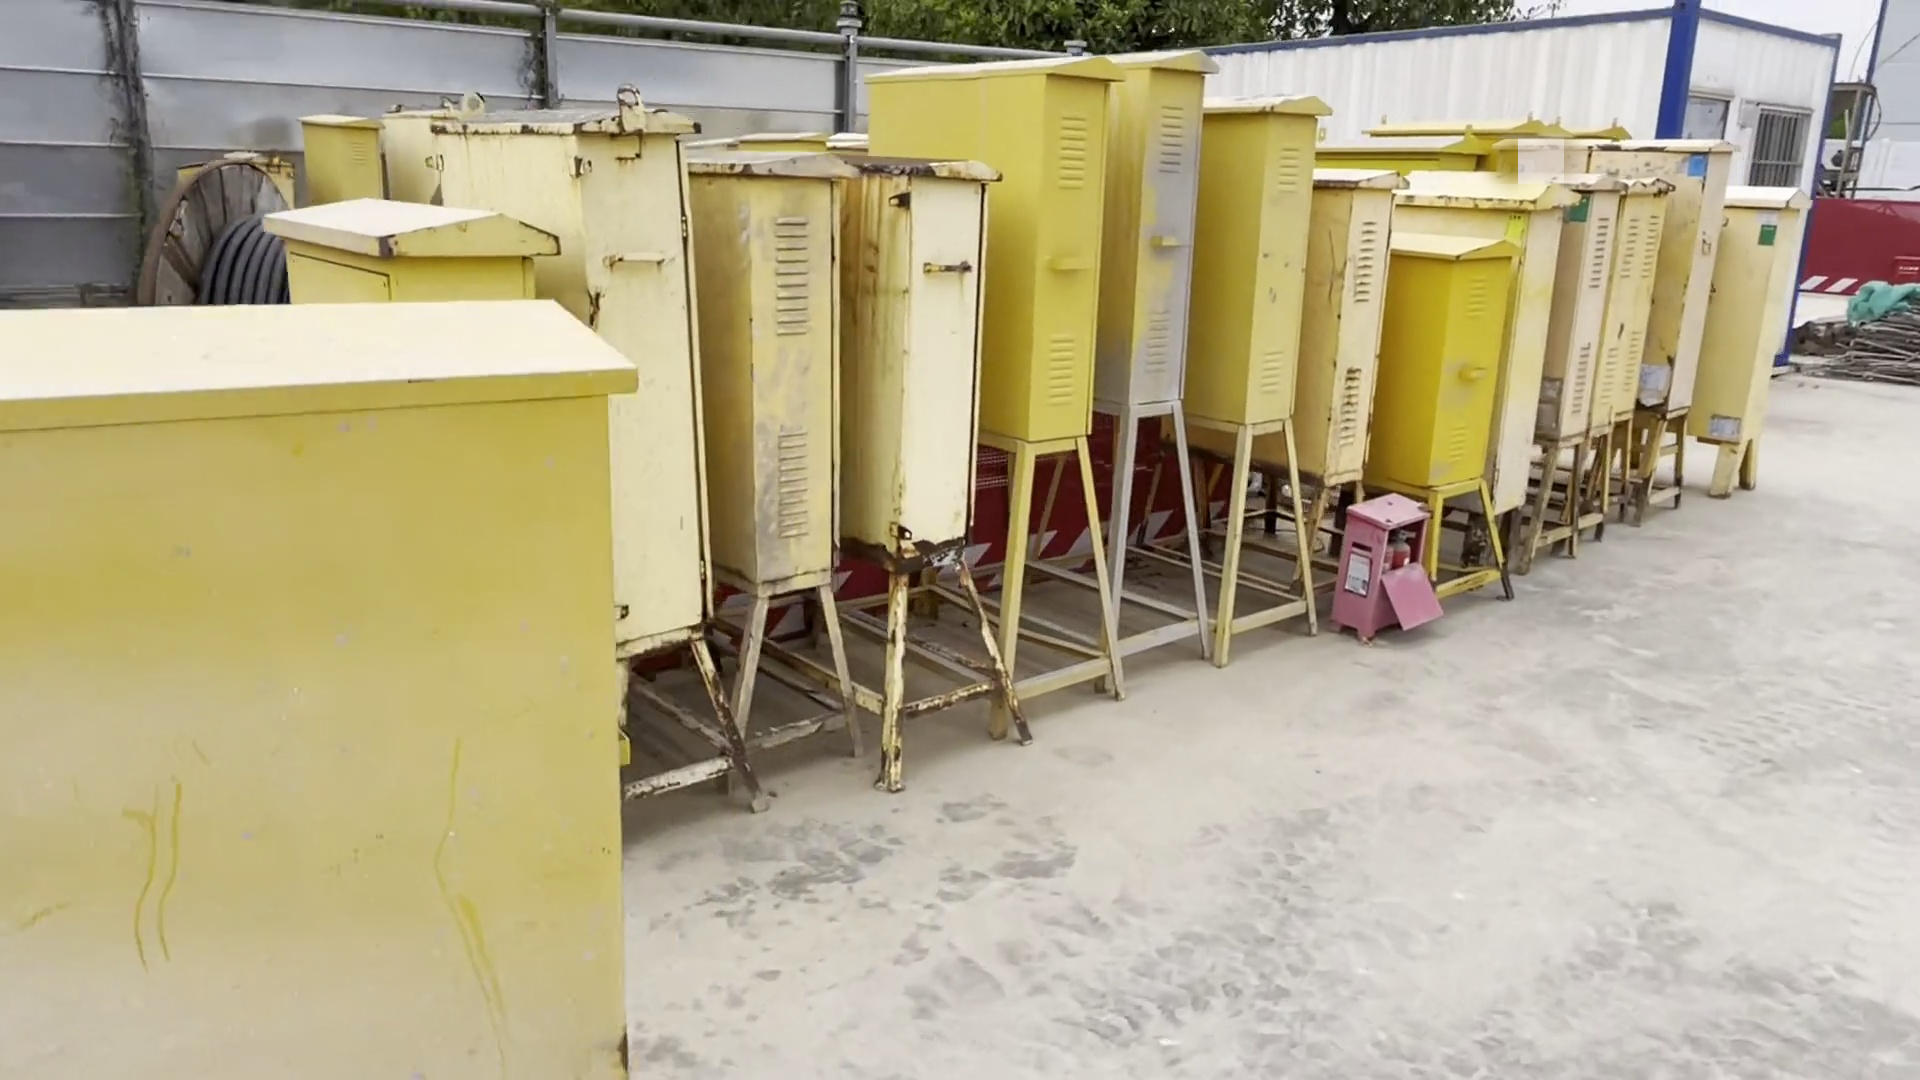ebox: (1, 291, 676, 1065), (411, 108, 764, 822), (874, 65, 1126, 702), (831, 145, 1033, 756), (679, 142, 858, 767), (1079, 53, 1208, 671), (1192, 102, 1315, 641), (1381, 225, 1515, 607), (1412, 169, 1528, 559), (1687, 185, 1811, 509), (1600, 136, 1688, 512), (270, 193, 555, 305), (1526, 170, 1600, 567), (1594, 181, 1675, 533), (1302, 165, 1374, 498), (306, 112, 393, 200)
